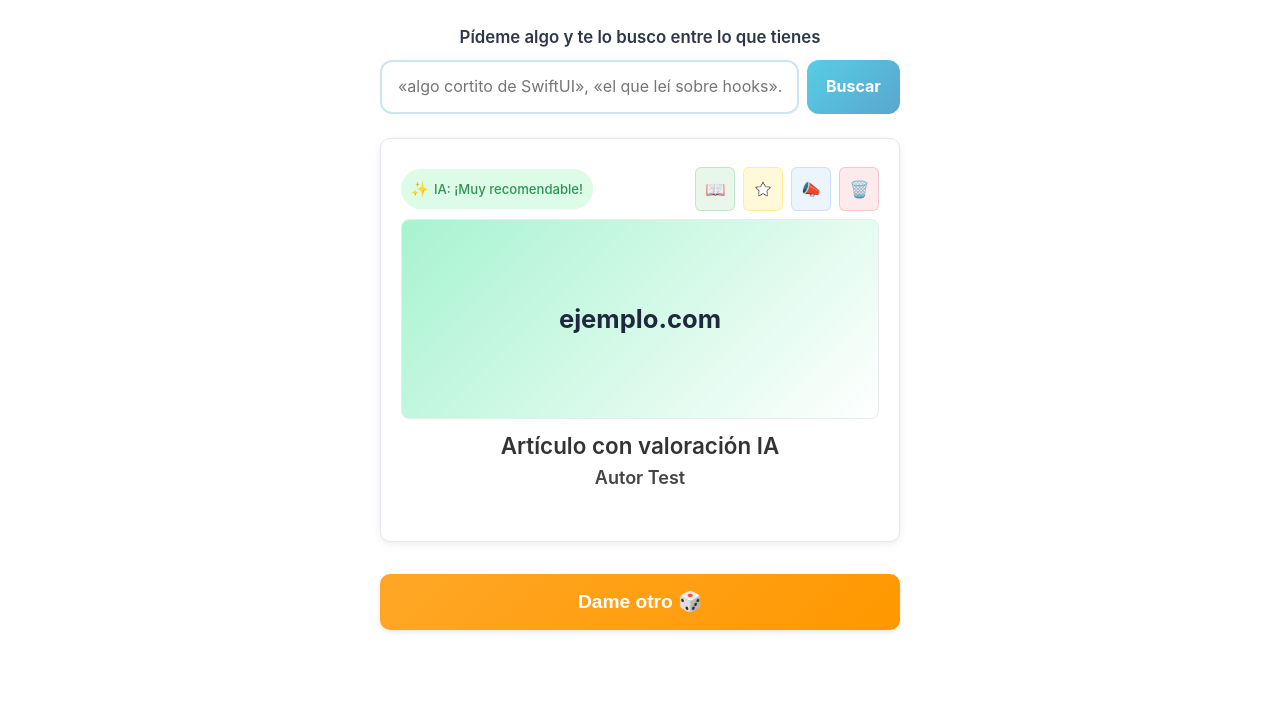
Test case: RandomArticle - Valoración IA › muestra el badge de valoración; el popover aparece al hacer clic y se cierra al volver a clicar
Expected: the text "Encaja con tus temas favoritos" is not shown
# Al clicar aparece el popover con la razón
Click the button with aria-label "Nota IA: 8 de 10" at (497, 189), box [401,169,593,209]
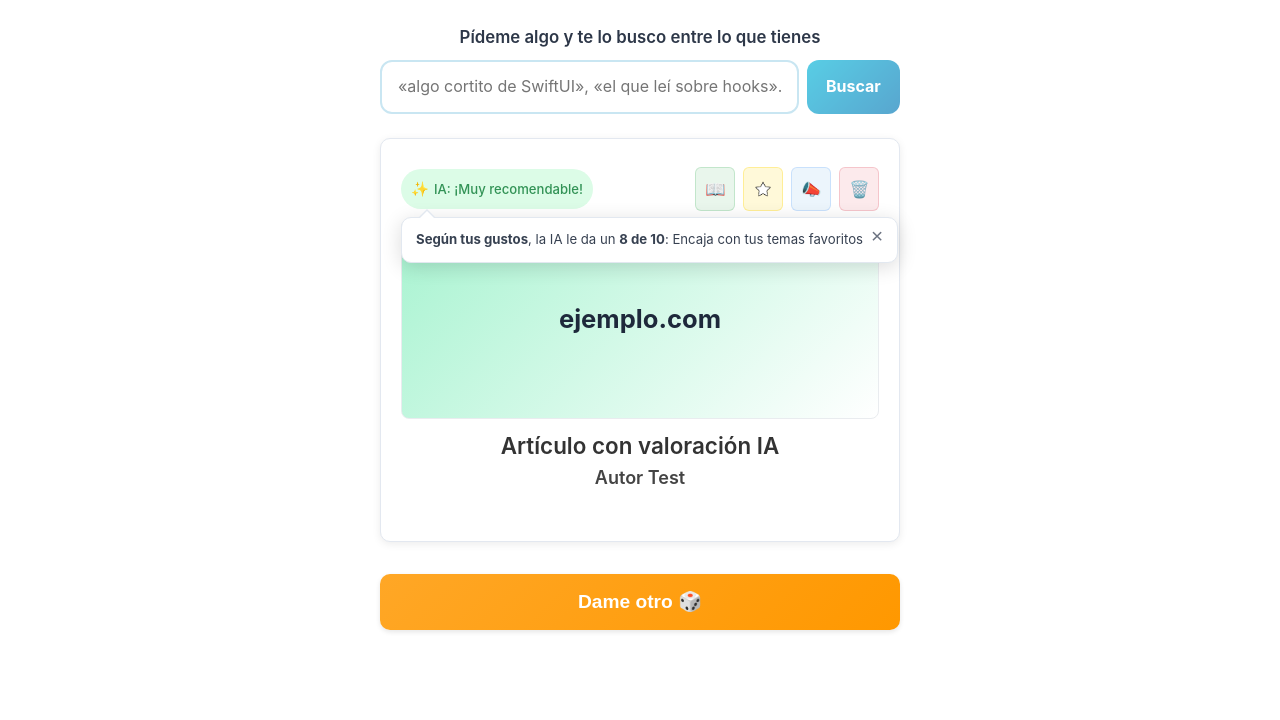
Now the dialog named "Por qué esta nota" shows "Según tus gustos, la IA le da un 8 de 10: Encaja con tus temas favoritos", box [401,217,898,263]
# Al clicar de nuevo se cierra
Click the button with aria-label "Nota IA: 8 de 10" at (497, 189), box [401,169,593,209]
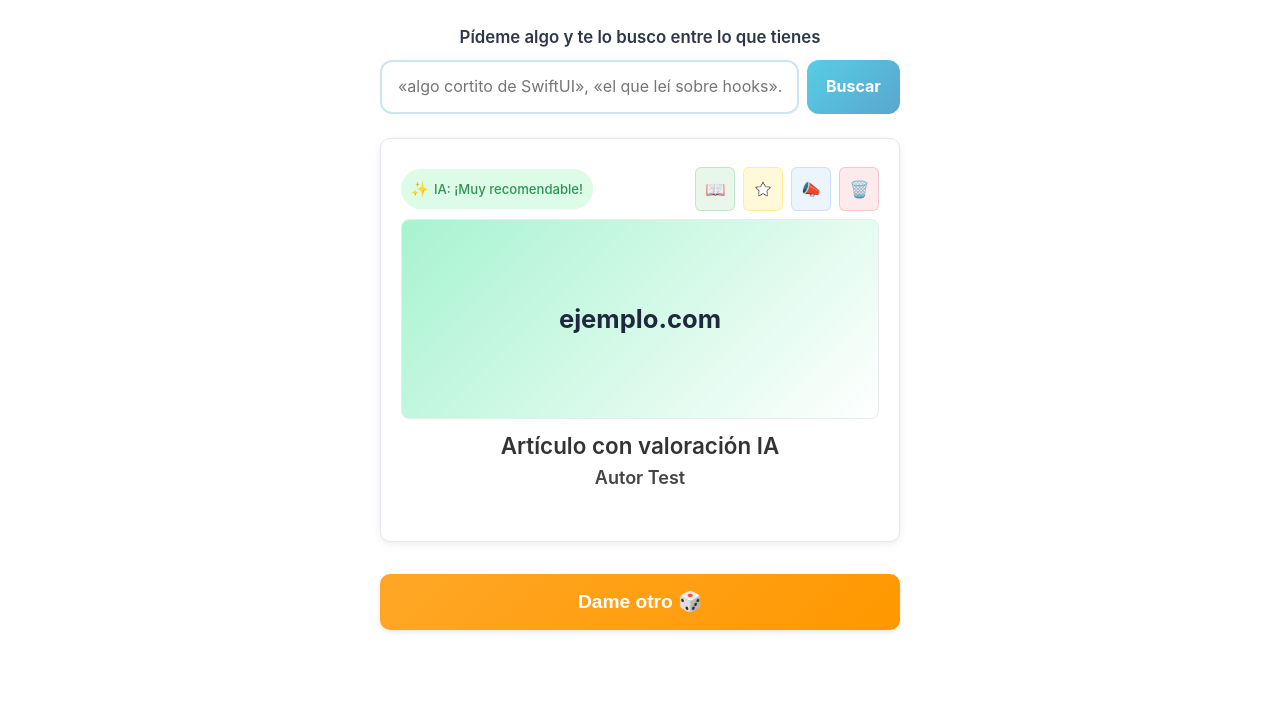
Now the dialog is gone
